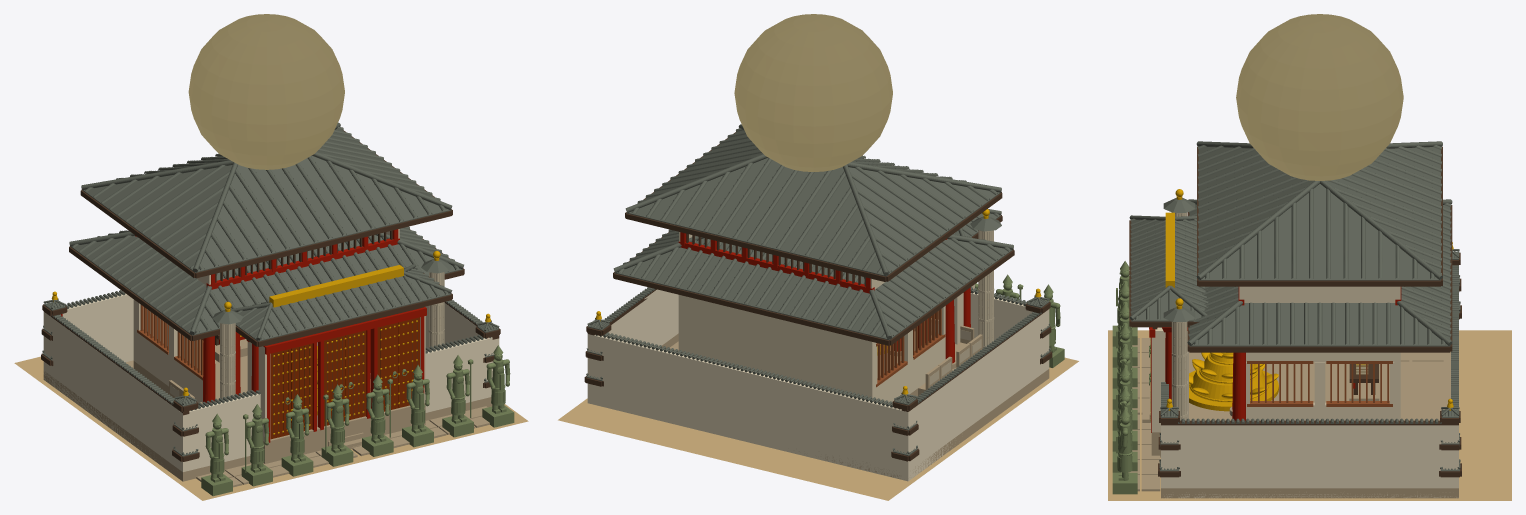
The model's file is xy_leiyin.glb.
3 renders of one model, left to right at view 1: azimuth 30°, elevation 25°; view 2: azimuth 150°, elevation 25°; view 3: azimuth 270°, elevation 25°, orthographic. The views are drawn at different scales.
Visible parts, largest first — view 1: xy_leiyin; view 2: xy_leiyin; view 3: xy_leiyin.
Boxes of the visible parts, x1=… form: xy_leiyin: x1=14, y1=14, x2=528, y2=500; xy_leiyin: x1=558, y1=14, x2=1078, y2=500; xy_leiyin: x1=1108, y1=14, x2=1511, y2=500.
Size of the model in its own units: 27 by 29.08 by 27.
